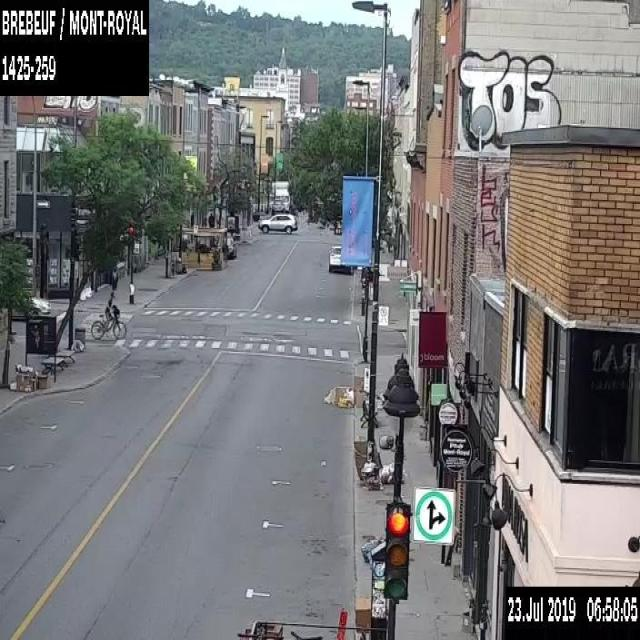cyclist: (89, 298, 126, 338)
pedestrian: (109, 265, 117, 299)
vehicle: (9, 282, 50, 320), (258, 213, 298, 235), (327, 243, 352, 273), (268, 179, 288, 213)
